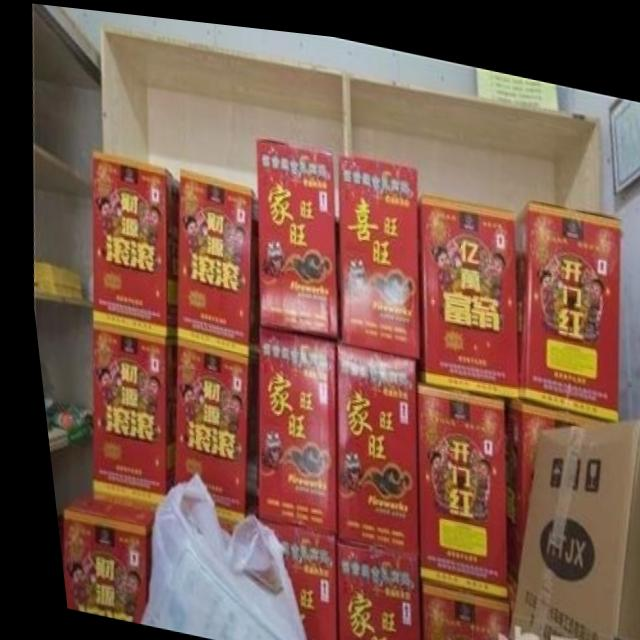box: (495, 401, 640, 640), (511, 185, 617, 410), (496, 389, 603, 593), (413, 184, 512, 387), (407, 376, 496, 588), (324, 336, 409, 546), (246, 319, 329, 528), (84, 149, 174, 336), (333, 147, 414, 350), (168, 162, 253, 351), (253, 133, 332, 332), (164, 335, 249, 517), (83, 321, 168, 500), (50, 494, 144, 621), (247, 514, 323, 640), (323, 535, 407, 640), (408, 573, 496, 640)
